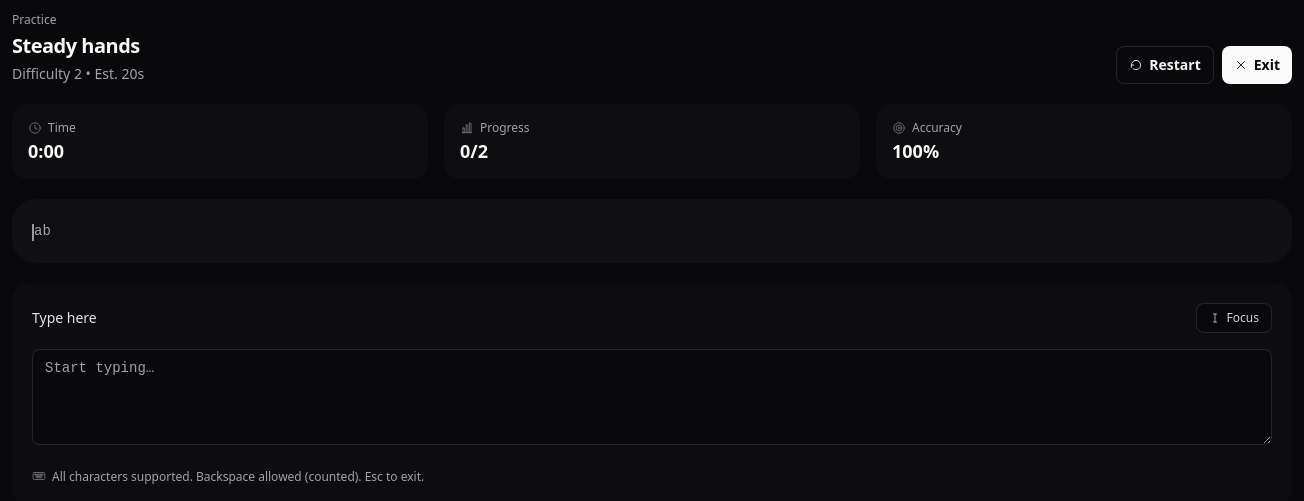
Scenario: TypingSession › keeps a same-length replacement and ignores an unchanged value
Type "a" into the text box named "Typing input". click: point(652, 396)
box: [32,348,1272,444]
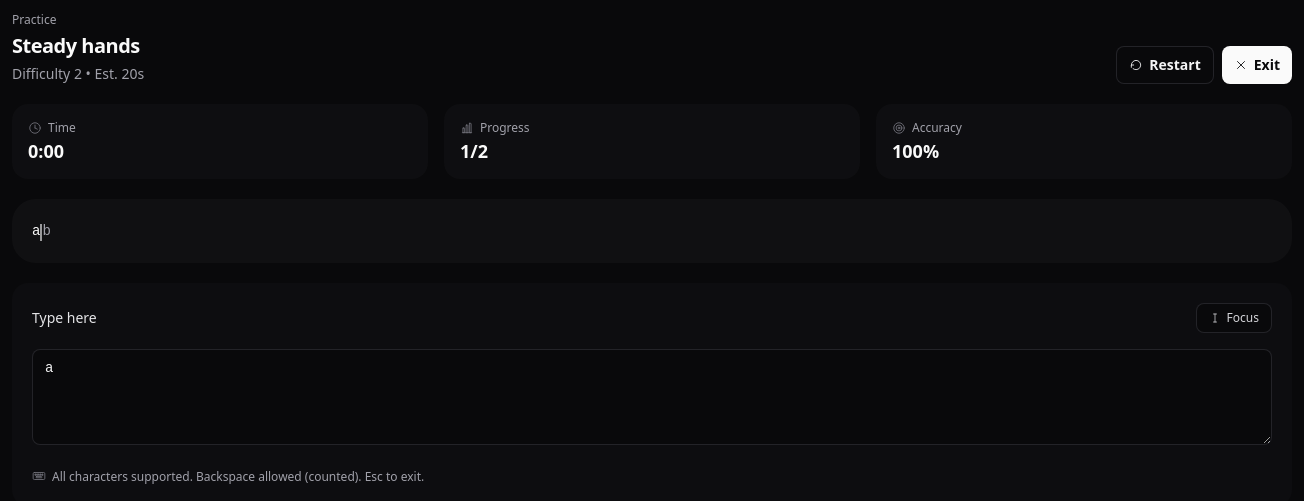
Replace the text in the text box named "Typing input" with "b". click: point(652, 396)
box: [32,348,1272,444]
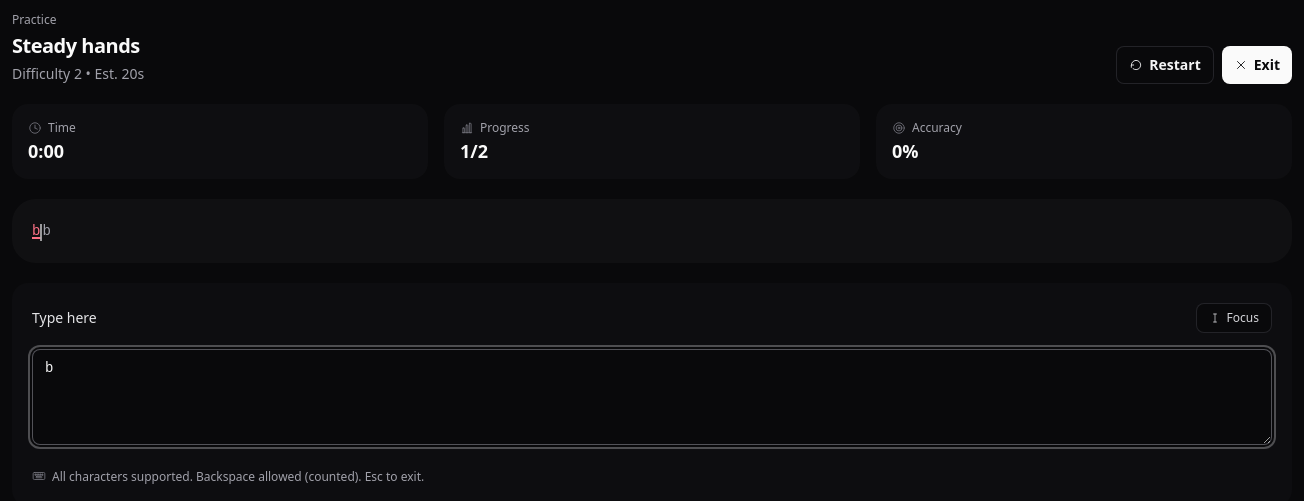
Expected: the 1st text "b" is shown, [32,222,40,238]
